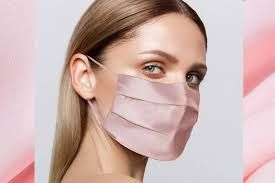with-mask: (68, 4, 220, 166)
